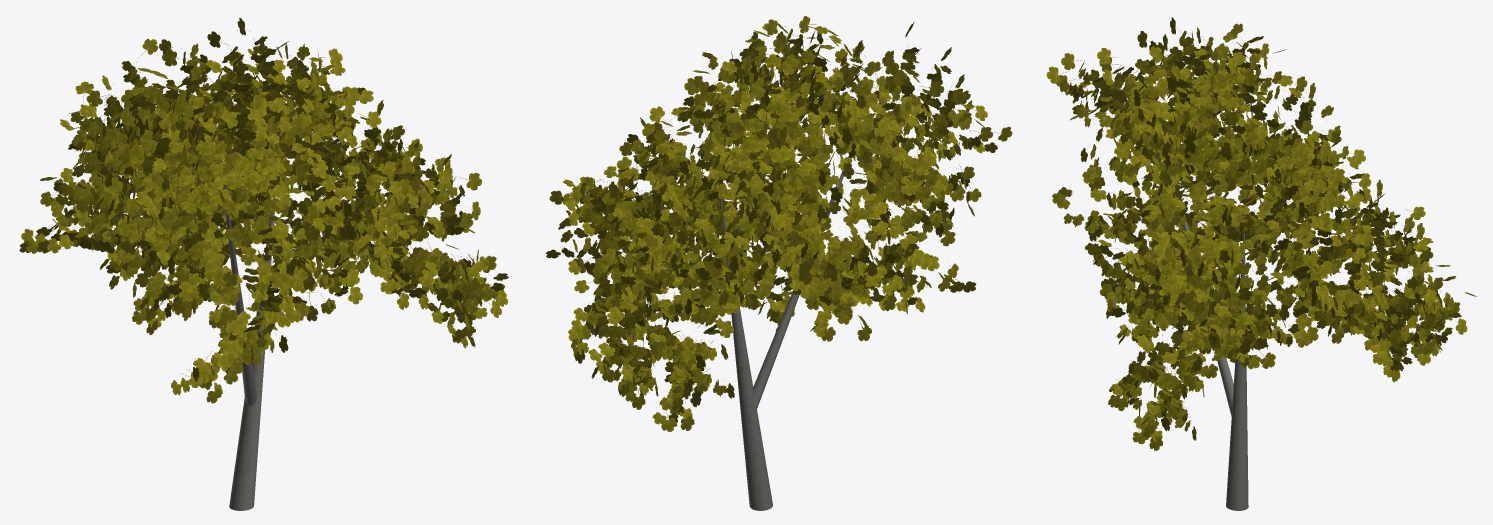
The model's file is tree_eu03_11_4.obj.
3 views of the same model, side by side, from view 1: azimuth 30°, elevation 25°; view 2: azimuth 150°, elevation 25°; view 3: azimuth 270°, elevation 25° (orthographic). The views are drawn at different scales.
Visible parts, largest first — view 1: EU03_i11_1 Obj_foliage, Obj_branches EU03_i11_1; view 2: EU03_i11_1 Obj_foliage, Obj_branches EU03_i11_1; view 3: EU03_i11_1 Obj_foliage, Obj_branches EU03_i11_1.
Boxes of the visible parts, bbox=[...] form: EU03_i11_1 Obj_foliage: bbox=[19, 18, 508, 403]; Obj_branches EU03_i11_1: bbox=[217, 133, 277, 510]; EU03_i11_1 Obj_foliage: bbox=[546, 16, 1012, 431]; Obj_branches EU03_i11_1: bbox=[718, 87, 877, 510]; EU03_i11_1 Obj_foliage: bbox=[1046, 17, 1476, 450]; Obj_branches EU03_i11_1: bbox=[1147, 86, 1248, 510].
Bounding box in the file's own units: 2324 × 2606 × 2239.
Materials: 2 (2 with a texture image).
